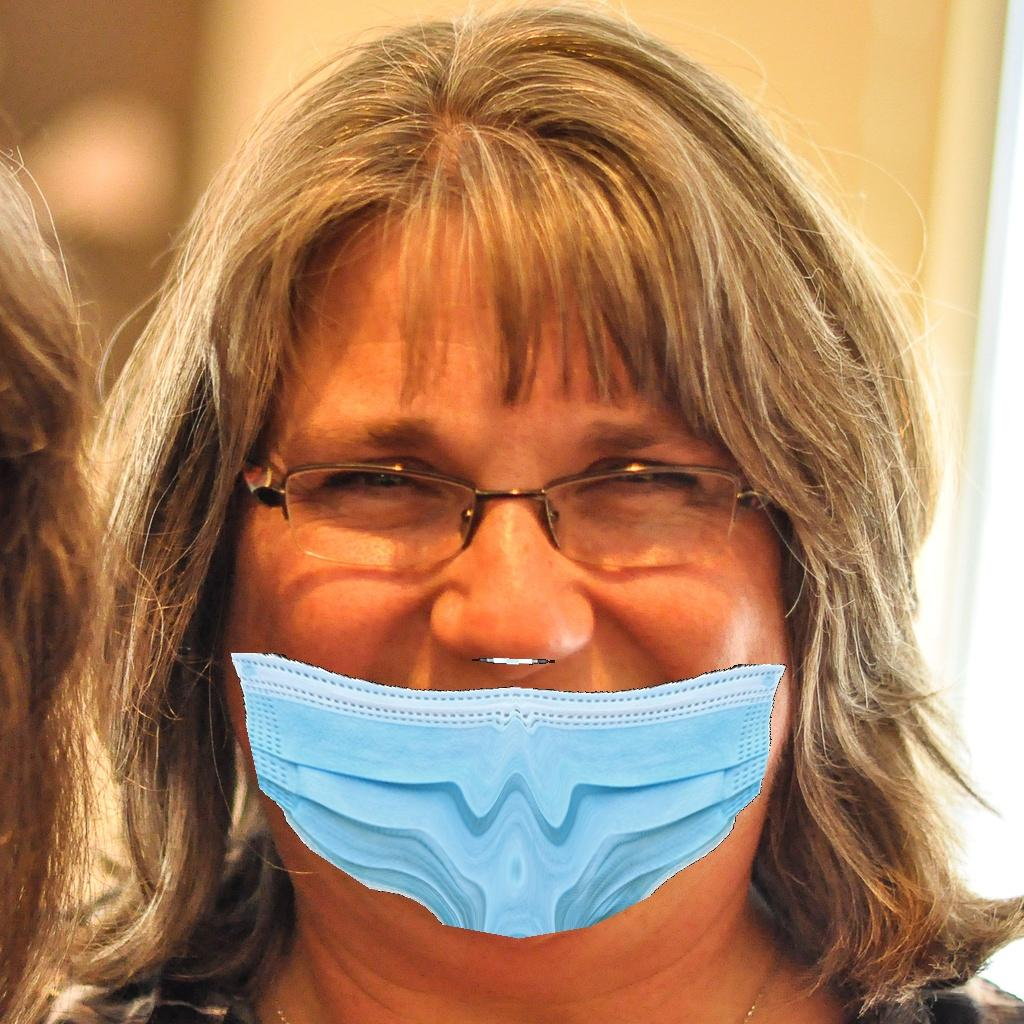Máscara Incorreta: (260, 295, 776, 927)
